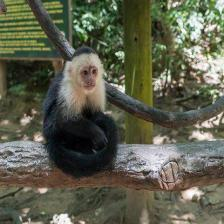monkey: (44, 46, 125, 183)
